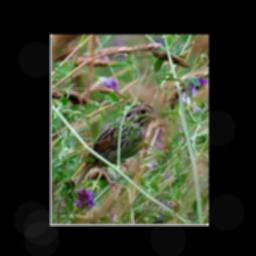Sparrow: (73, 104, 160, 194)
